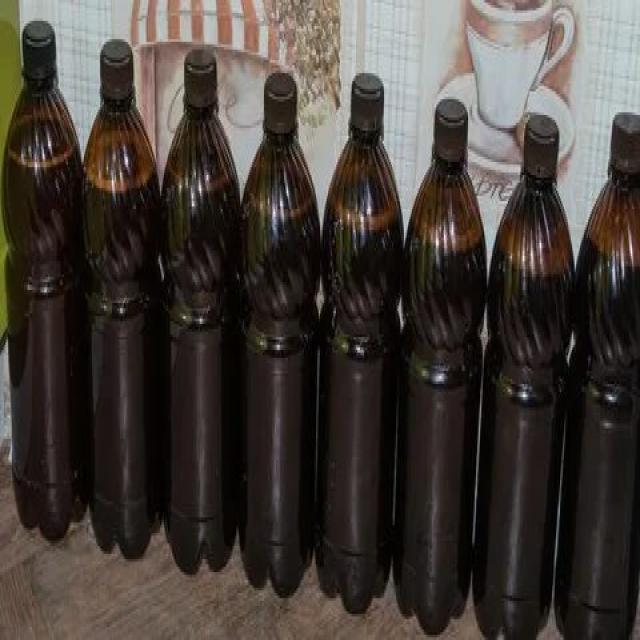brown: (481, 172, 572, 640), (320, 129, 403, 612), (2, 77, 86, 542), (82, 94, 162, 562), (238, 130, 318, 598), (162, 103, 238, 578), (407, 160, 478, 630), (574, 167, 640, 640)
